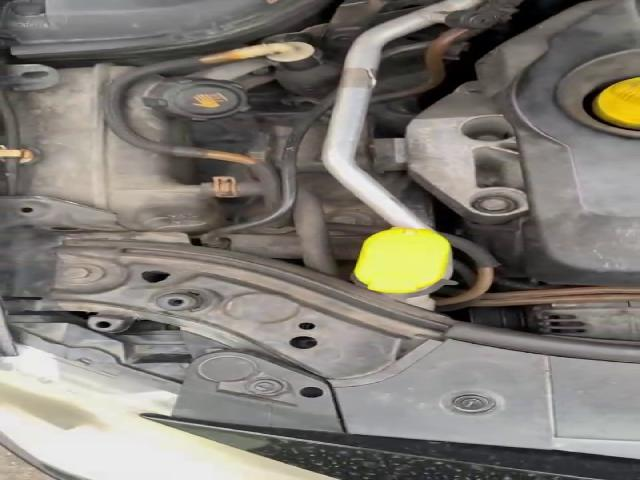antifreeze_tank: (7, 64, 225, 232), (124, 76, 250, 146)
